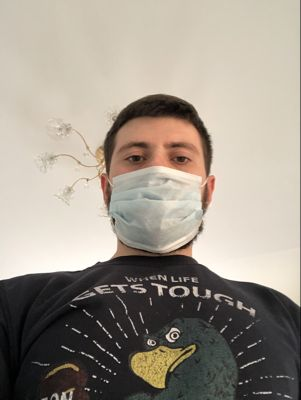with-mask: (99, 96, 224, 255)
